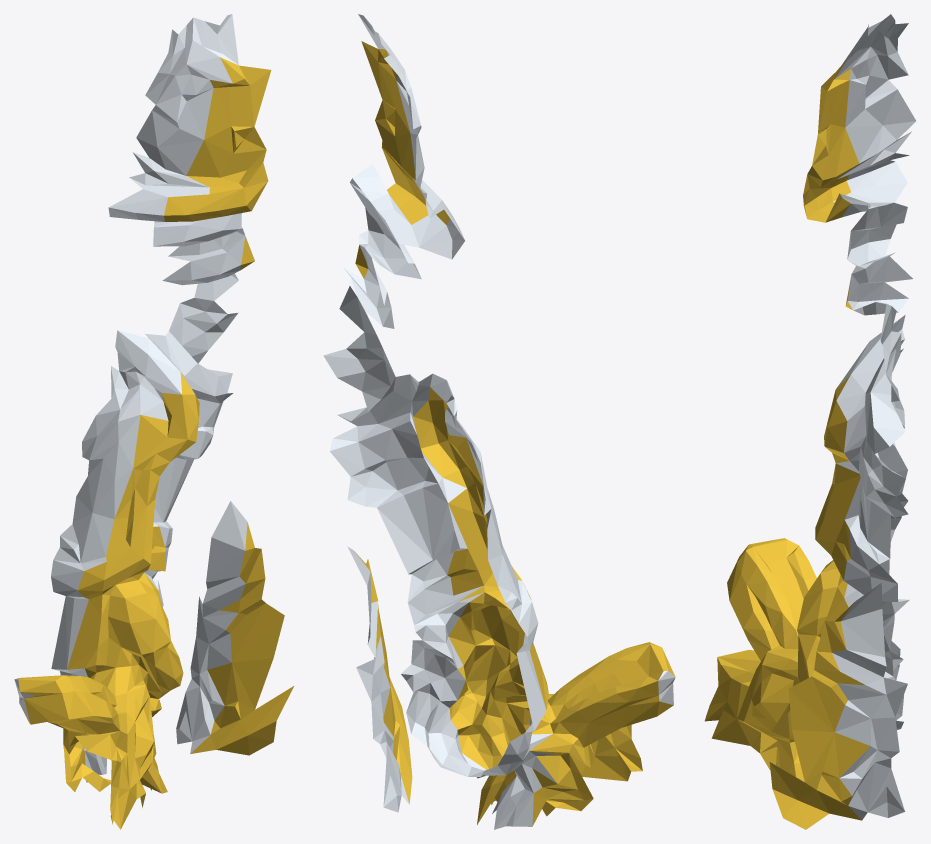
File: angel_arm_r.obj
3 views of the same model, side by side, from view 1: azimuth 30°, elevation 25°; view 2: azimuth 150°, elevation 25°; view 3: azimuth 270°, elevation 25° (orthographic). The views are drawn at different scales.
Visible parts, largest first — view 1: Angel_RightArm; view 2: Angel_RightArm; view 3: Angel_RightArm.
Boxes of the visible parts, <box> form: Angel_RightArm: <box>14,14,293,829</box>; Angel_RightArm: <box>323,14,675,829</box>; Angel_RightArm: <box>704,14,916,829</box>.
Size of the model in its own units: 0.2796 by 0.7261 by 0.1666.
